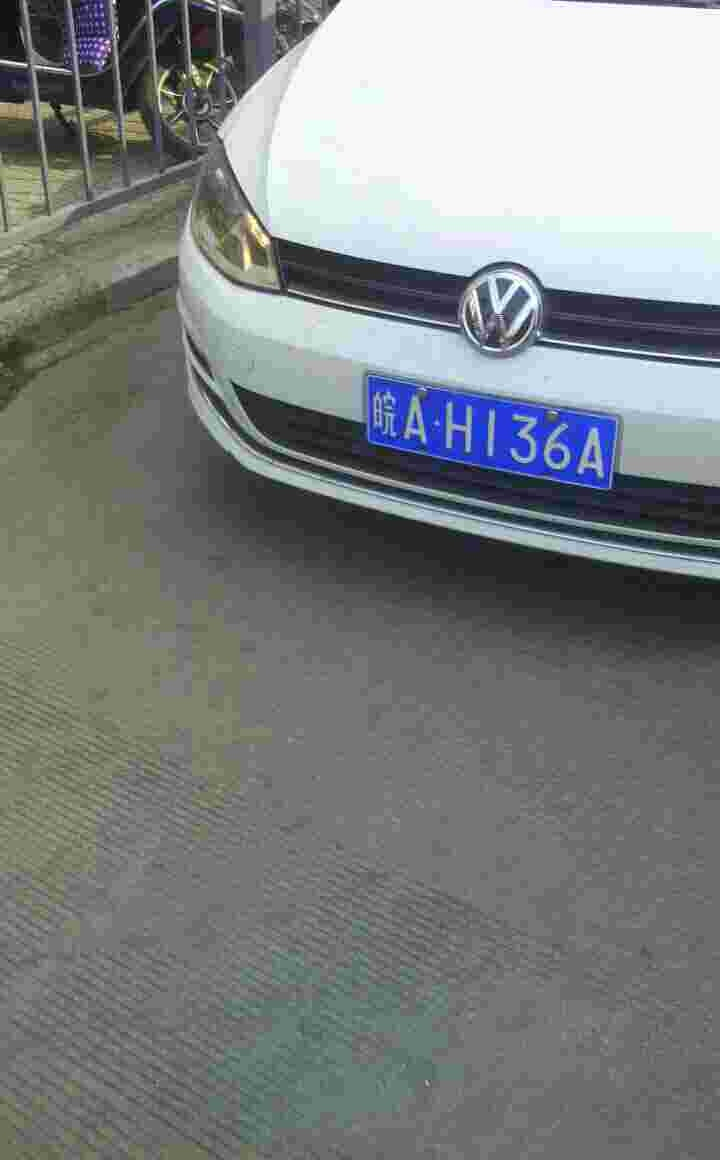license_plate: (360, 373, 609, 498)
